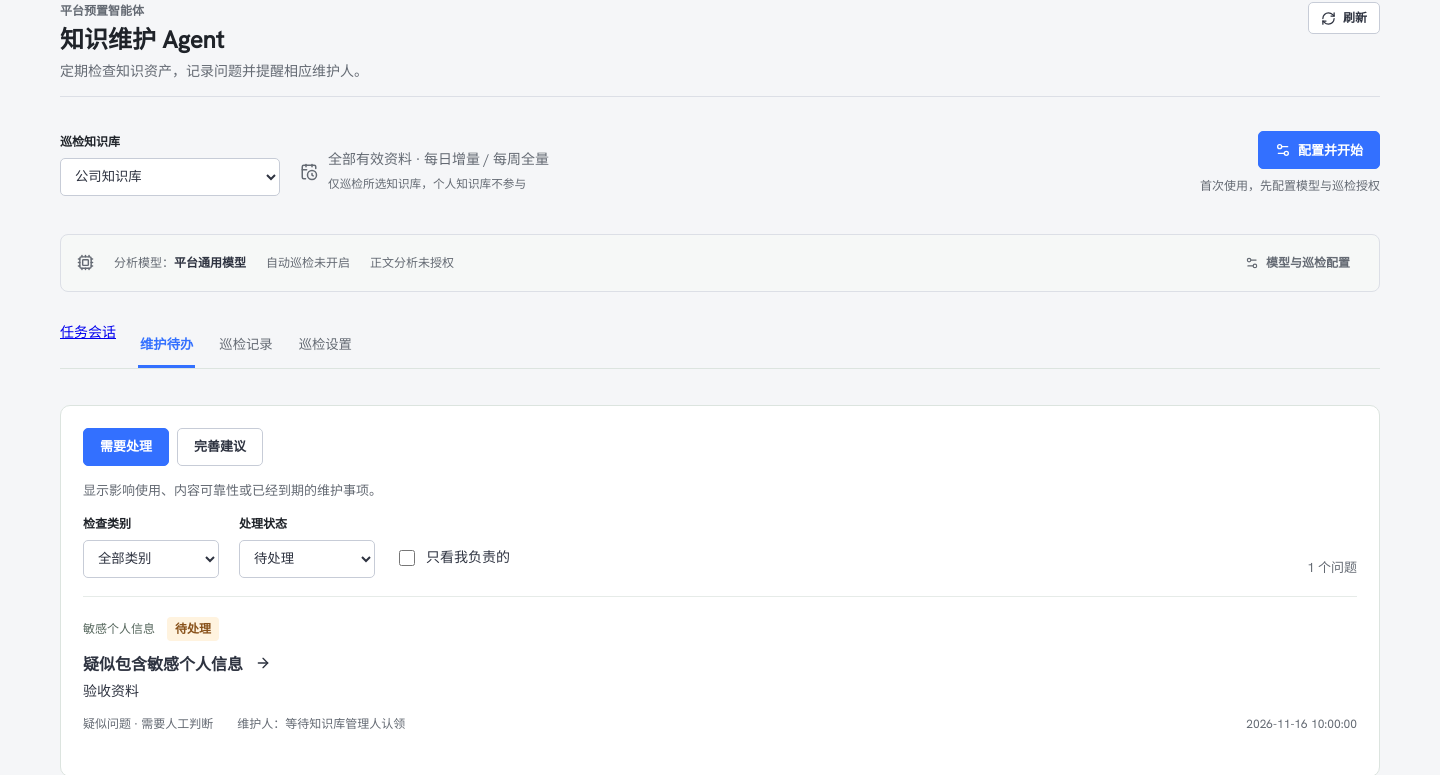
Test: shows privacy findings as counts and locations with a dedicated category
Click the button "疑似包含敏感个人信息" at [177, 664], box [83,652,271,676]
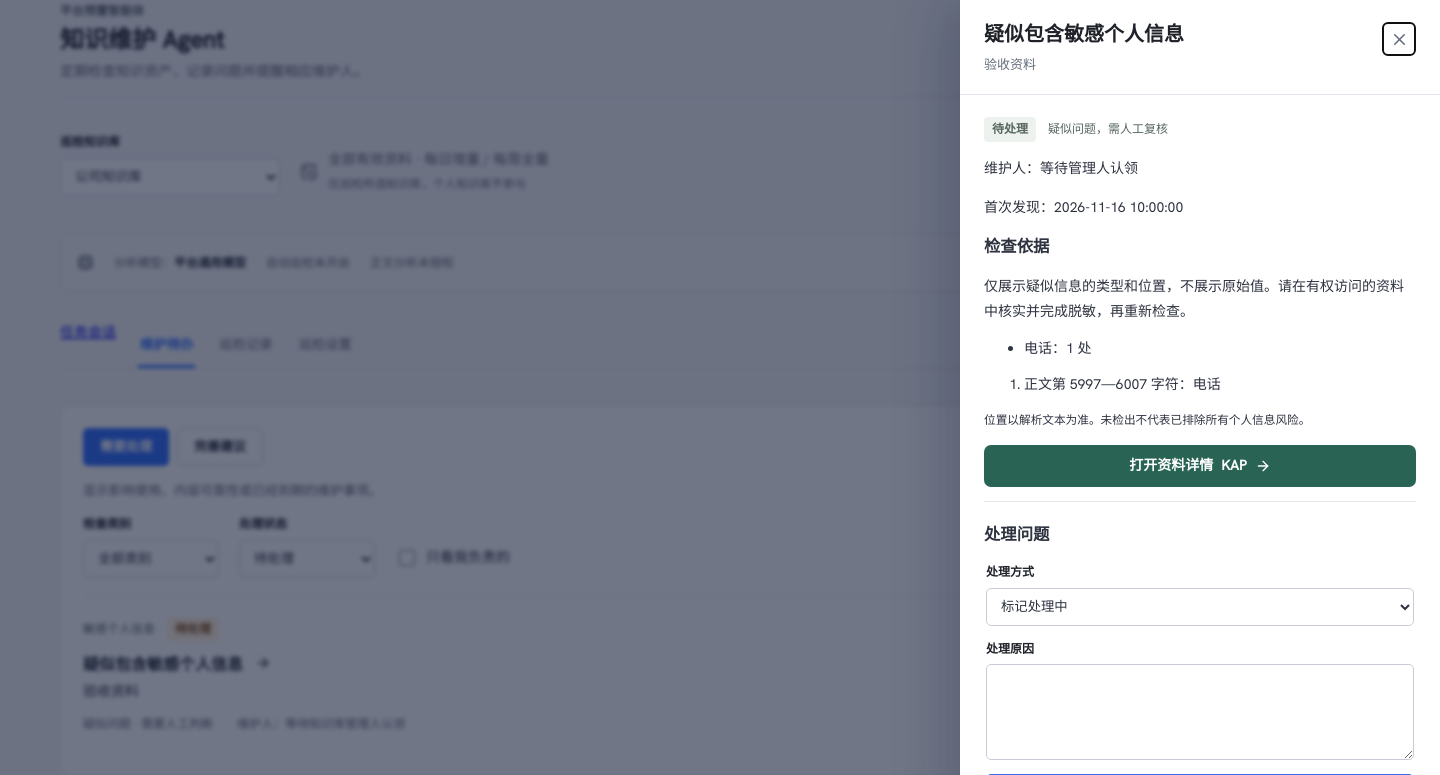
Expected: the element named "个人信息检查结果" shows "电话：1 处", [984,274,1416,431]
Expected: the element named "个人信息检查结果" shows "第 5997—6007 字符", [984,274,1416,431]
